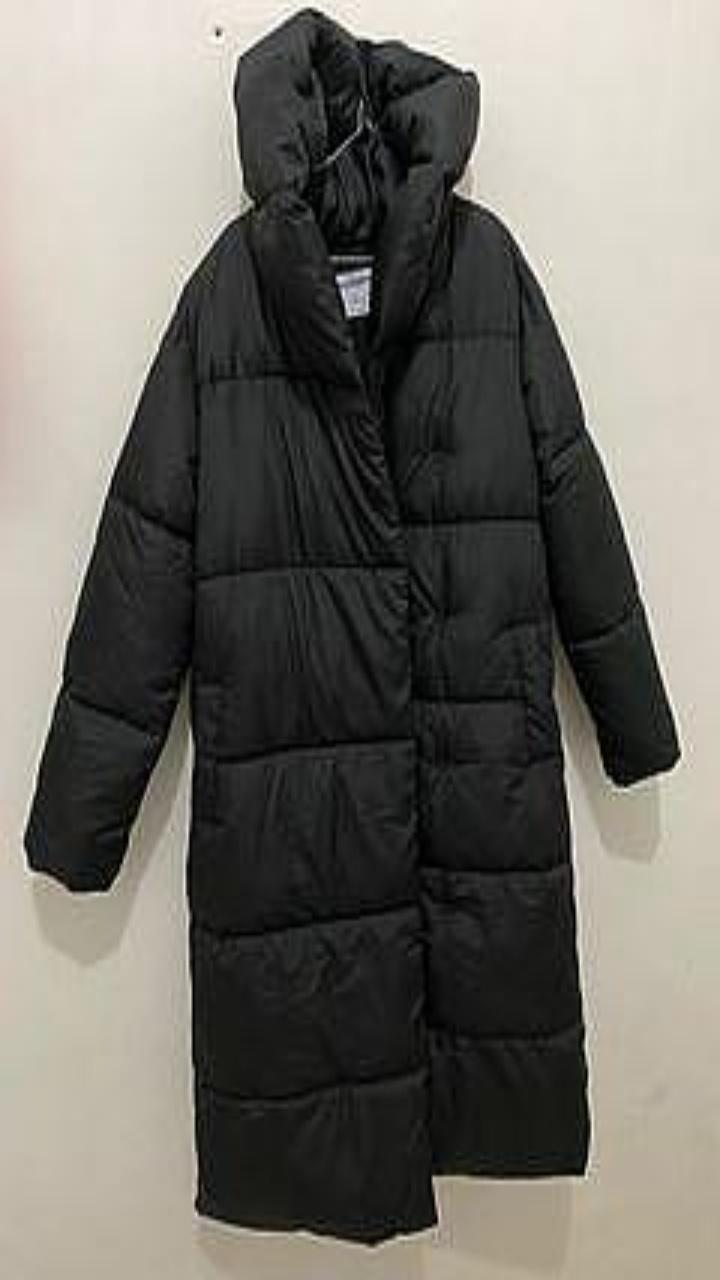Coat: (25, 9, 678, 1243)
